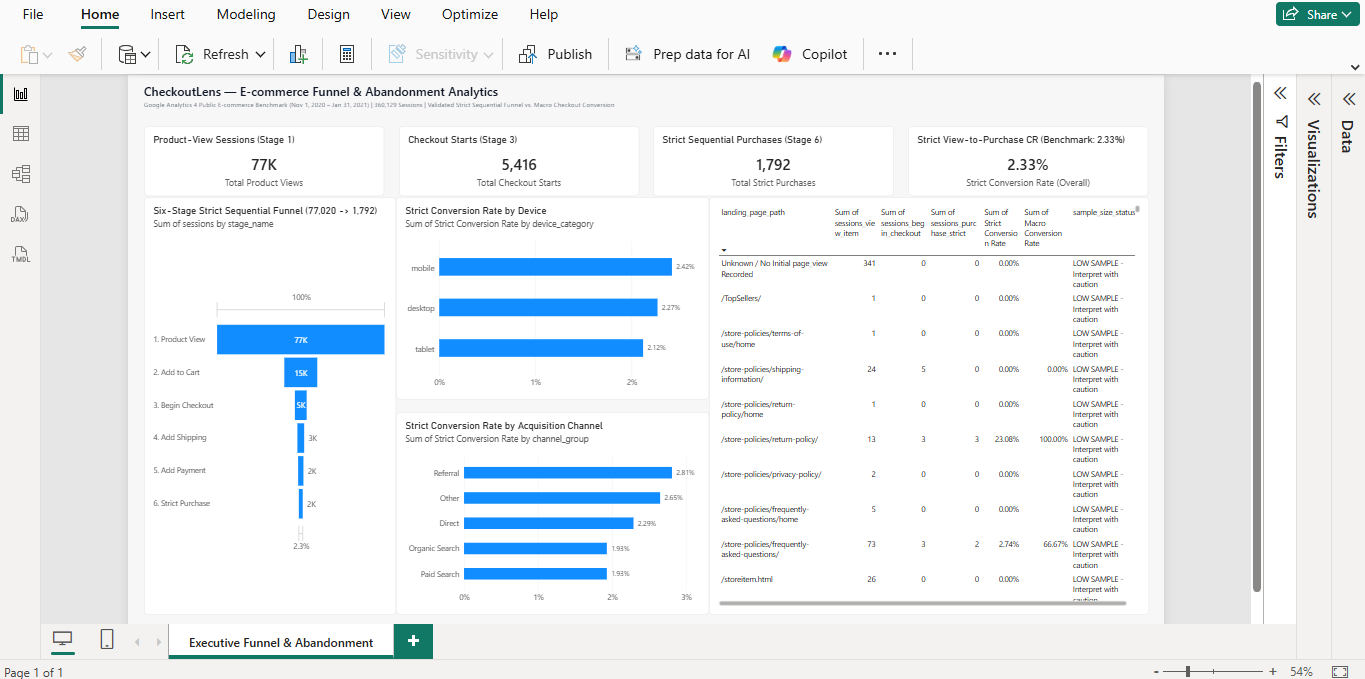

The dashboard page shown, as its layout file describes it:
{"tool":"powerbi","page":{"name":"Executive Funnel & Abandonment","canvas":[1920,1080],"ordinal":0},"visuals":[{"type":"textbox","box":[30,15,1860,70],"z":1},{"type":"card","title":"Product-View Sessions (Stage 1)","fields":{"Values":["DeviceFunnel.Total Product Views"]},"box":[30.4,94.6,444.6,130.4],"z":2},{"type":"card","title":"Checkout Starts (Stage 3)","fields":{"Values":["DeviceFunnel.Total Checkout Starts"]},"box":[501.8,94.6,444.6,130.4],"z":3},{"type":"card","title":"Strict Sequential Purchases (Stage 6)","fields":{"Values":["DeviceFunnel.Total Strict Purchases"]},"box":[971.4,94.6,446.4,130.4],"z":4},{"type":"card","title":"Strict View-to-Purchase CR (Benchmark: 2.33%)","fields":{"Values":["DeviceFunnel.Strict Conversion Rate (Overall)"]},"box":[1444.6,94.6,444.6,130.4],"z":5},{"type":"funnel","title":"Six-Stage Strict Sequential Funnel (77,020 -> 1,792)","fields":{"Category":["GlobalFunnel.stage_name"],"Y":["Sum(GlobalFunnel.sessions)"]},"box":[29.5,225.8,467.3,773.7],"z":6},{"type":"clusteredBarChart","title":"Strict Conversion Rate by Acquisition Channel","fields":{"Category":["ChannelFunnel.channel_group"],"Y":["Sum(ChannelFunnel.Strict Conversion Rate)"]},"box":[496.8,624.4,580,375],"z":8},{"type":"tableEx","title":"Landing Page Progression & Drop-Off Diagnostics","fields":{"Values":["LandingPageFunnel.landing_page_path","Sum(LandingPageFunnel.sessions_view_item)","Sum(LandingPageFunnel.sessions_begin_checkout)","Sum(LandingPageFunnel.sessions_purchase_strict)","Sum(LandingPageFunnel.Strict Conversion Rate)","Sum(LandingPageFunnel.Macro Conversion Rate)","LandingPageFunnel.sample_size_status"]},"box":[1076.1,225.8,814.9,773.7],"z":9},{"type":"clusteredBarChart","title":"Strict Conversion Rate by Device","fields":{"Category":["DeviceFunnel.device_category"],"Y":["Sum(DeviceFunnel.Strict Conversion Rate)"]},"box":[496.8,225.8,580,375],"z":10},{"type":"textbox","box":[30,1015,1860,45],"z":11}]}

Visuals, with their boxes on the page's 1920x1080 design canvas (x1, y1, x2, y2). These are canvas units, not pixel positions in the 1365x679 screenshot, which may show the page scaled, cropped or inside an application window:
textbox: (x1=30, y1=15, x2=1890, y2=85)
"Product-View Sessions (Stage 1)" card: (x1=30, y1=95, x2=475, y2=225)
"Checkout Starts (Stage 3)" card: (x1=502, y1=95, x2=946, y2=225)
"Strict Sequential Purchases (Stage 6)" card: (x1=971, y1=95, x2=1418, y2=225)
"Strict View-to-Purchase CR (Benchmark: 2.33%)" card: (x1=1445, y1=95, x2=1889, y2=225)
"Six-Stage Strict Sequential Funnel (77,020 -> 1,792)" funnel: (x1=30, y1=226, x2=497, y2=1000)
"Strict Conversion Rate by Acquisition Channel" clusteredBarChart: (x1=497, y1=624, x2=1077, y2=999)
"Landing Page Progression & Drop-Off Diagnostics" tableEx: (x1=1076, y1=226, x2=1891, y2=1000)
"Strict Conversion Rate by Device" clusteredBarChart: (x1=497, y1=226, x2=1077, y2=601)
textbox: (x1=30, y1=1015, x2=1890, y2=1060)
